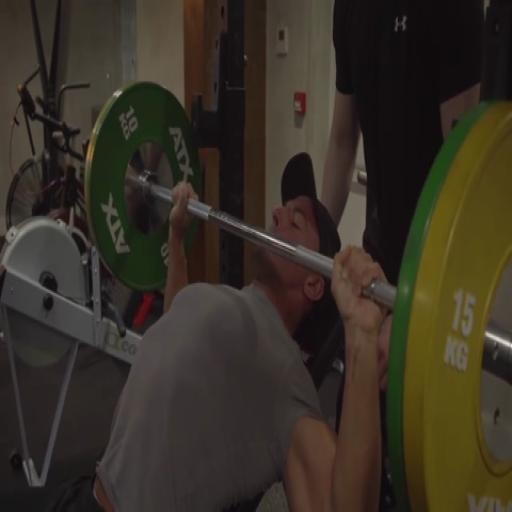exercise: (42, 150, 392, 510)
